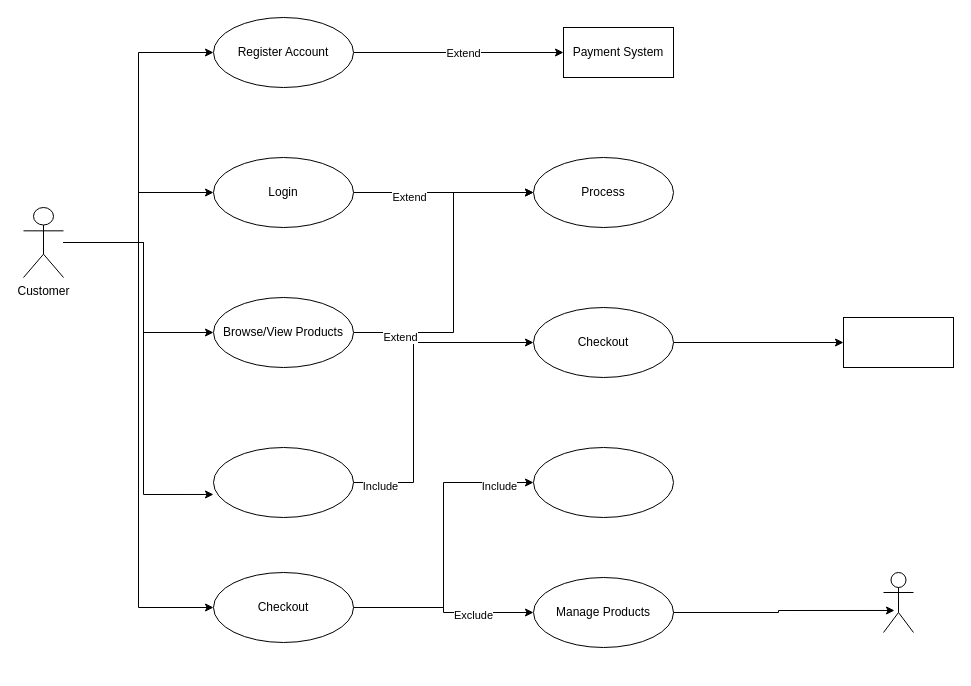
The diagram is 971 pixels wide and 686 high, and some of its shapes have lost their labels. Each missing label, with the centre of its shape:
"Add to cart" belongs at (283,482).
"Admin" belongs at (898,602).
"Shipping System" belongs at (898,342).
"Update Inventory" belongs at (603,482).
